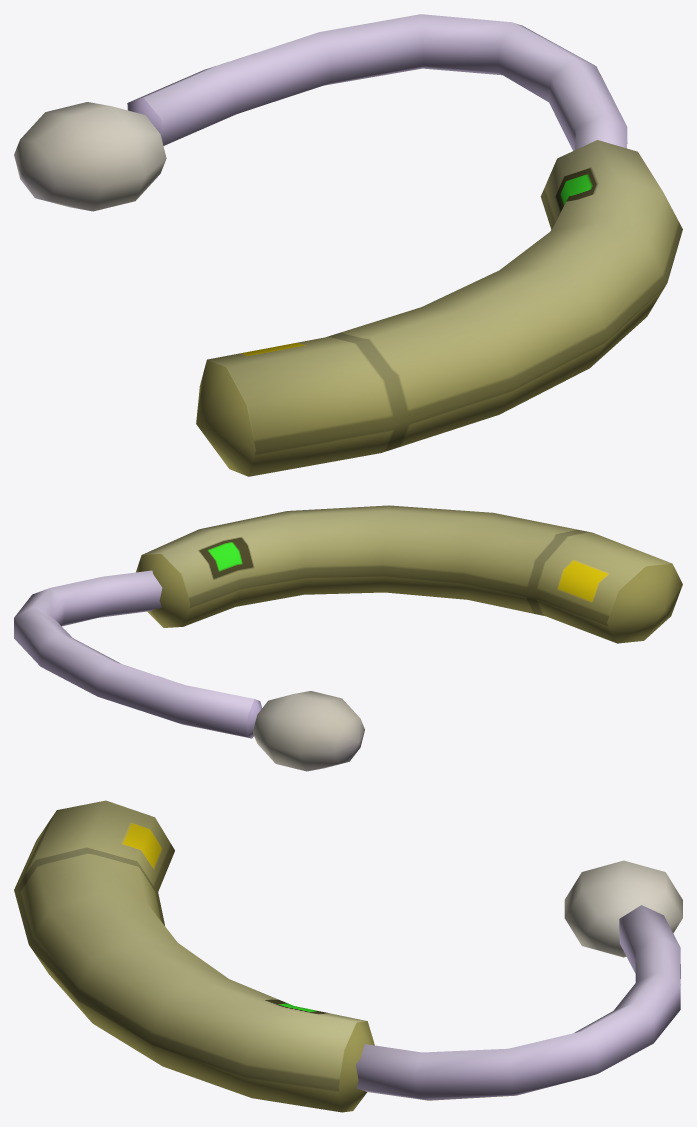
File: F_HearingAid_Left.fbx
The picture shows the model from 3 angles, top to bottom: view 1: azimuth 30°, elevation 25°; view 2: azimuth 150°, elevation 25°; view 3: azimuth 270°, elevation 25°; orthographic projection. The views are drawn at different scales.
Visible parts, largest first — view 1: F_HearingAid_Left_export; view 2: F_HearingAid_Left_export; view 3: F_HearingAid_Left_export.
Boxes of the visible parts, x1=… form: F_HearingAid_Left_export: x1=14, y1=14, x2=682, y2=476; F_HearingAid_Left_export: x1=14, y1=505, x2=682, y2=771; F_HearingAid_Left_export: x1=14, y1=800, x2=682, y2=1112.
Size of the model in its own units: 0.0356 by 0.00625 by 0.0375.
